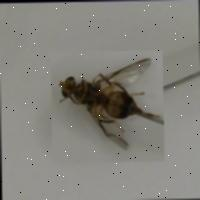Oriental-fruit-fly: (50, 49, 164, 162)
